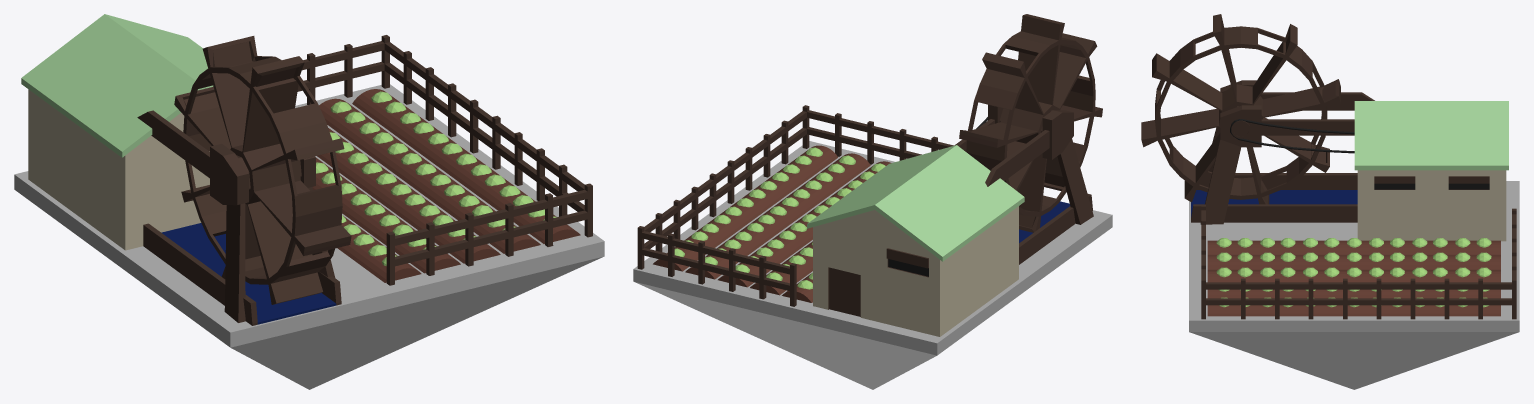
Rendered from Building Farm T2.fbx.
3 views of the same model, side by side, from view 1: azimuth 30°, elevation 25°; view 2: azimuth 150°, elevation 25°; view 3: azimuth 270°, elevation 25° (orthographic). The views are drawn at different scales.
Parts seen in each view (by area): view 1: Farm T2; view 2: Farm T2; view 3: Farm T2.
Part boxes in pixels (bbox=[...]): Farm T2: bbox=[14, 14, 604, 389]; Farm T2: bbox=[633, 14, 1112, 389]; Farm T2: bbox=[1141, 14, 1519, 389].
Size of the model in its own units: 1599 by 1720 by 1830.
